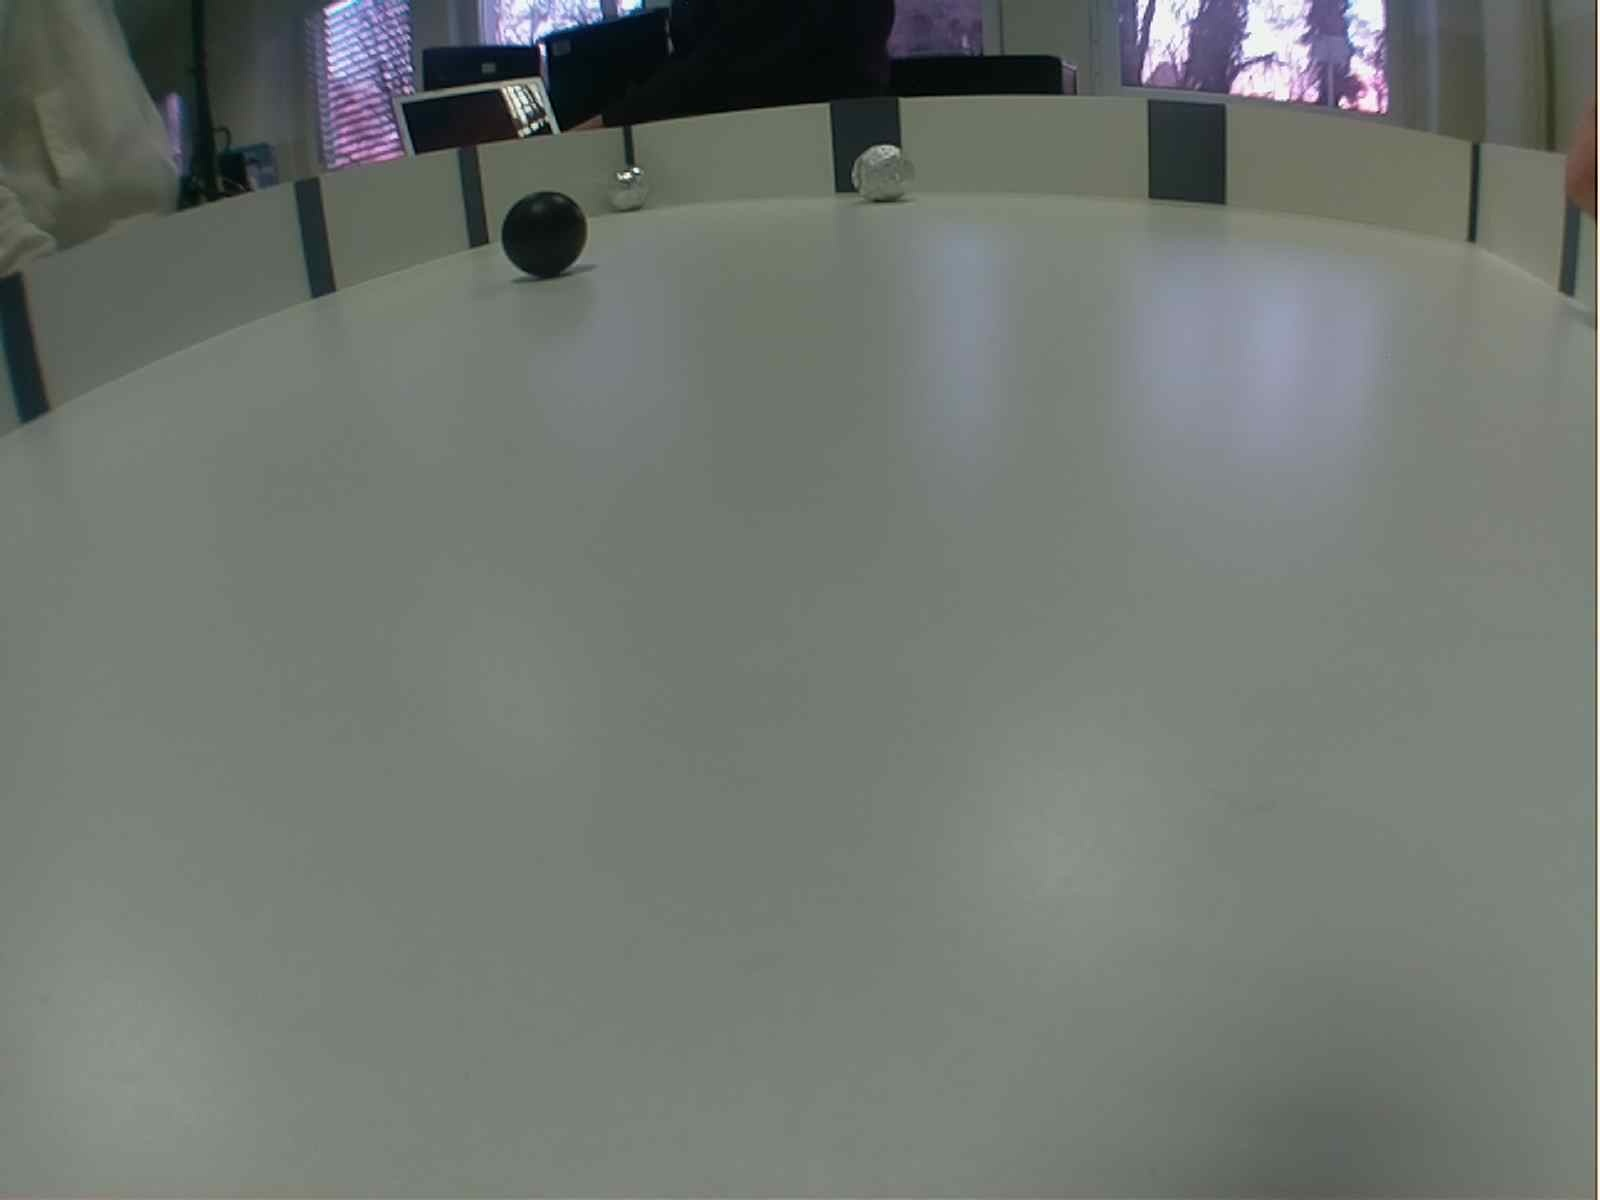bianca: (850, 142, 916, 204), (605, 164, 654, 213)
nera: (501, 188, 590, 279)
